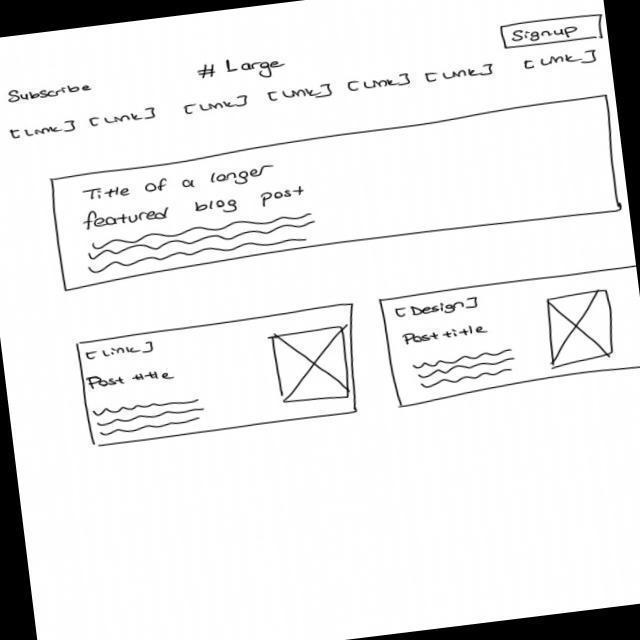button: (499, 11, 608, 51)
container: (47, 93, 626, 294), (73, 301, 370, 452), (376, 263, 640, 412)
image: (268, 326, 352, 408), (541, 288, 619, 369)
label: (81, 184, 307, 231), (80, 164, 277, 205), (412, 348, 519, 391), (194, 52, 288, 87), (85, 365, 177, 392), (5, 81, 95, 106), (402, 322, 490, 346)
link: (392, 295, 483, 322), (424, 61, 498, 85), (524, 48, 599, 71), (9, 119, 79, 143), (182, 94, 253, 117), (89, 107, 160, 130), (83, 341, 156, 363), (266, 83, 336, 105), (347, 72, 413, 94)
textbox: (81, 211, 321, 275), (93, 396, 207, 438)
